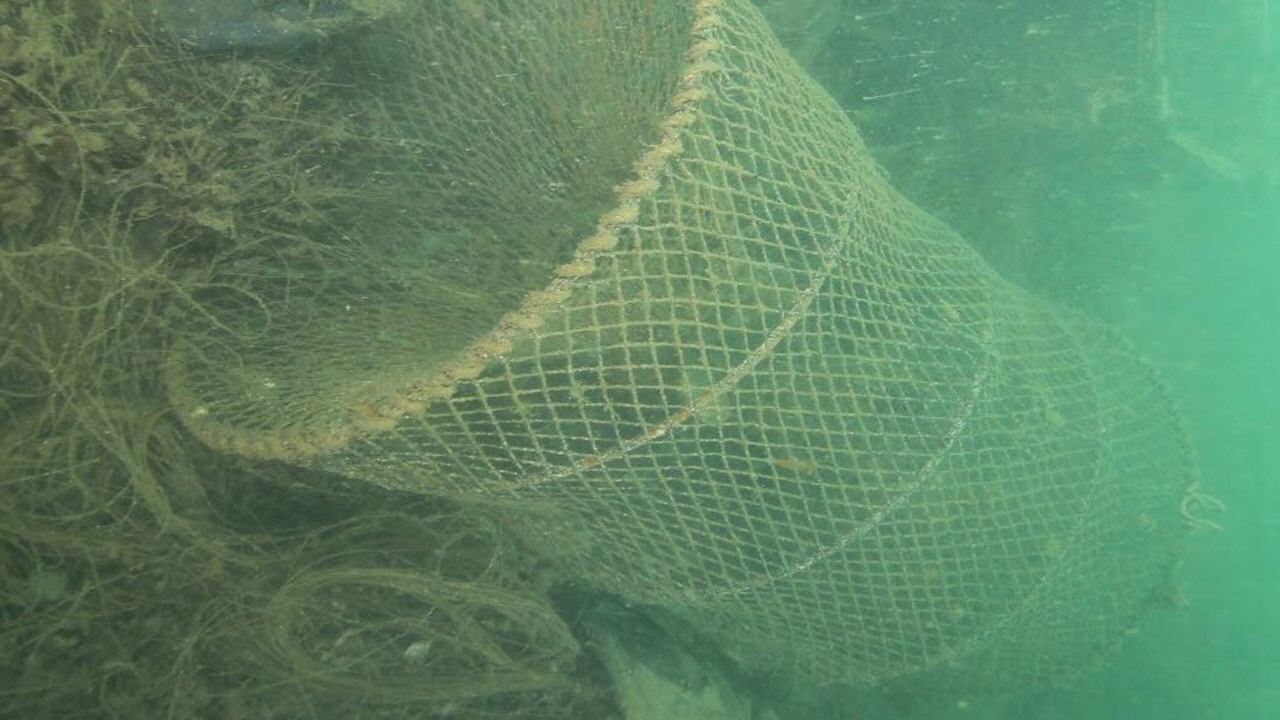spring fish trap: (160, 0, 1202, 710)
